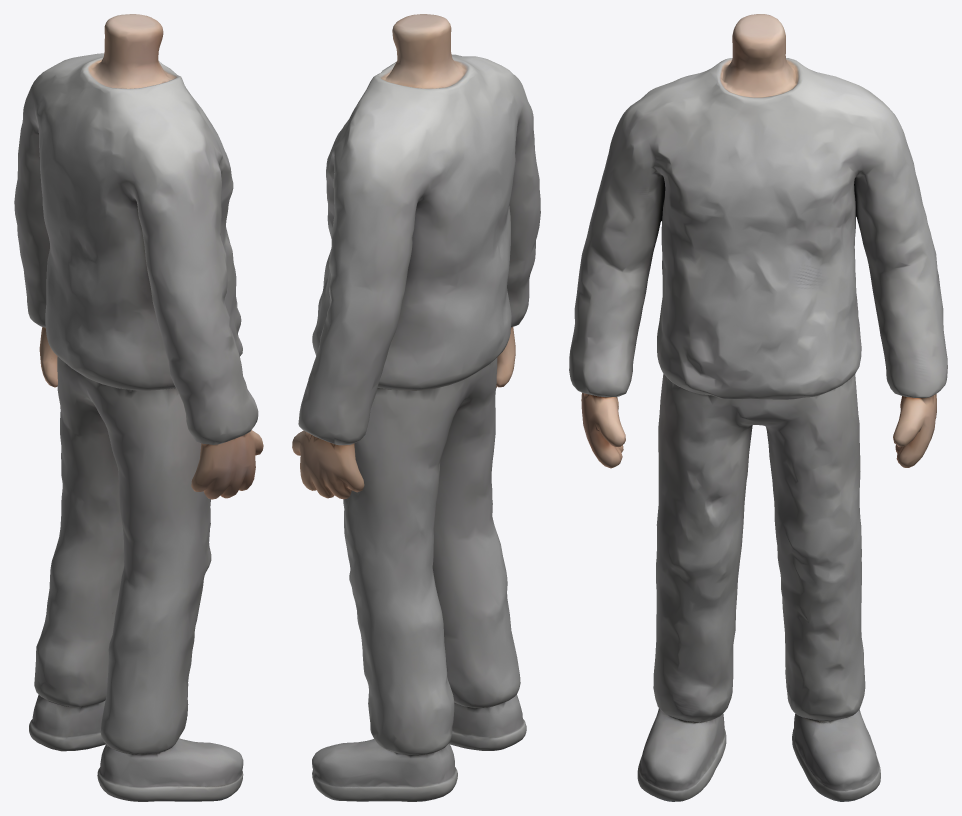
Rendered from body_man.glb.
3 views of the same model, side by side, from view 1: azimuth 30°, elevation 25°; view 2: azimuth 150°, elevation 25°; view 3: azimuth 270°, elevation 25° (orthographic).
Visible parts, largest first — view 1: tripo_node_9400cc0b-32b6-4f56-ba0c-acf9bbd76eb0; view 2: tripo_node_9400cc0b-32b6-4f56-ba0c-acf9bbd76eb0; view 3: tripo_node_9400cc0b-32b6-4f56-ba0c-acf9bbd76eb0.
Part boxes in pixels (x1,y1,x2,y2): tripo_node_9400cc0b-32b6-4f56-ba0c-acf9bbd76eb0: [14, 14, 263, 801]; tripo_node_9400cc0b-32b6-4f56-ba0c-acf9bbd76eb0: [292, 14, 540, 801]; tripo_node_9400cc0b-32b6-4f56-ba0c-acf9bbd76eb0: [569, 14, 947, 801].
Bounding box in the file's own units: 0.2214 × 1 × 0.458.
Materials: 1 (1 with a texture image).
